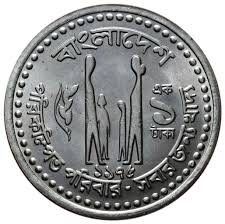1_takar_coin: (3, 4, 222, 221)
